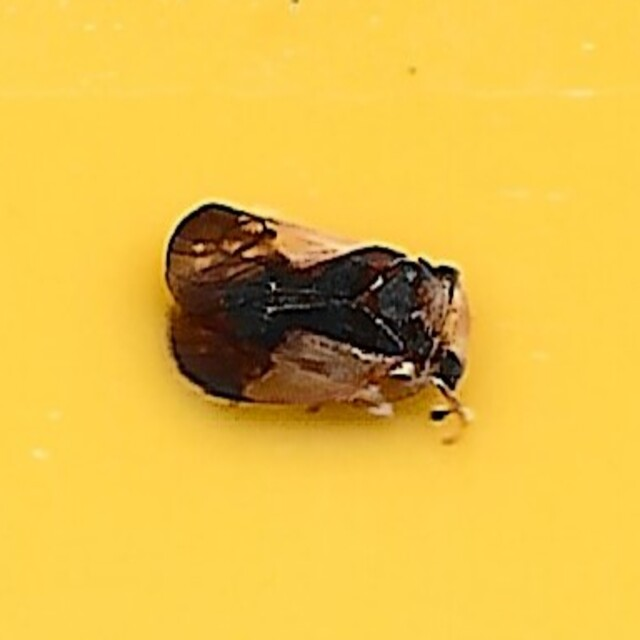Hemiptera: (167, 204, 473, 436)
